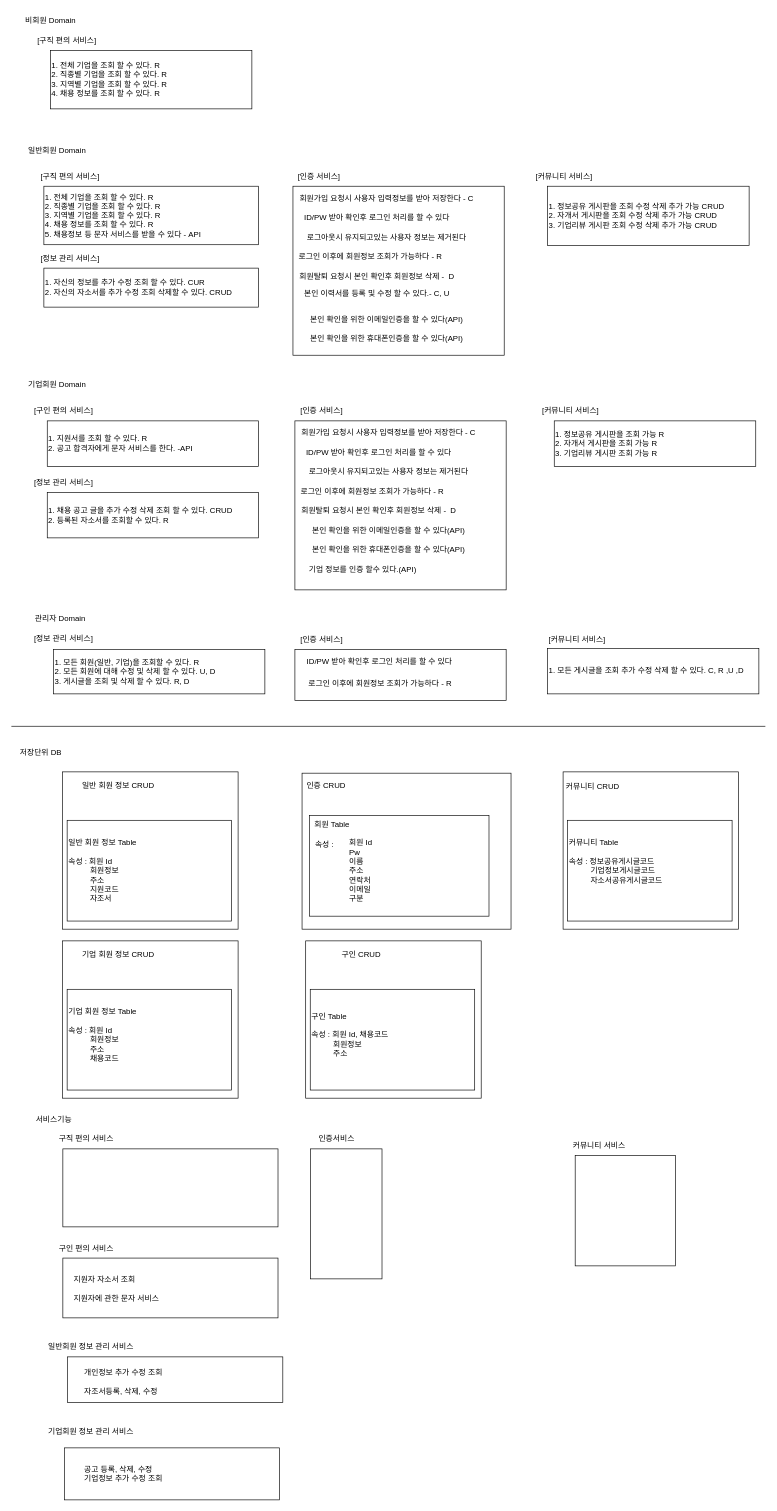
The diagram is 777 pixels wide and 1511 high, and some of its shapes have lost their labels. Here are the shapes that lost their labels. From the top down, the centre of each, then its label:
At (170,1187): "기업 전체조회 키워드별 기업 조회(기업명, 지역별, 직종별)\ 채용공고 문자 서비스 합격 문자 서비스".
At (346,1213): "일반회원가입 기업회원가입 회원조회 회원수정 회원탈퇴 일반회원 로그인 기업회원 로그인 관리자 로그인 로그아웃 권한처리".
At (625,1210): "게시글 추가 게시글 수정 게시글 삭제 게시글 읽기 댓글 추가 댓글 삭제 댓글 읽기 댓글 수정".
